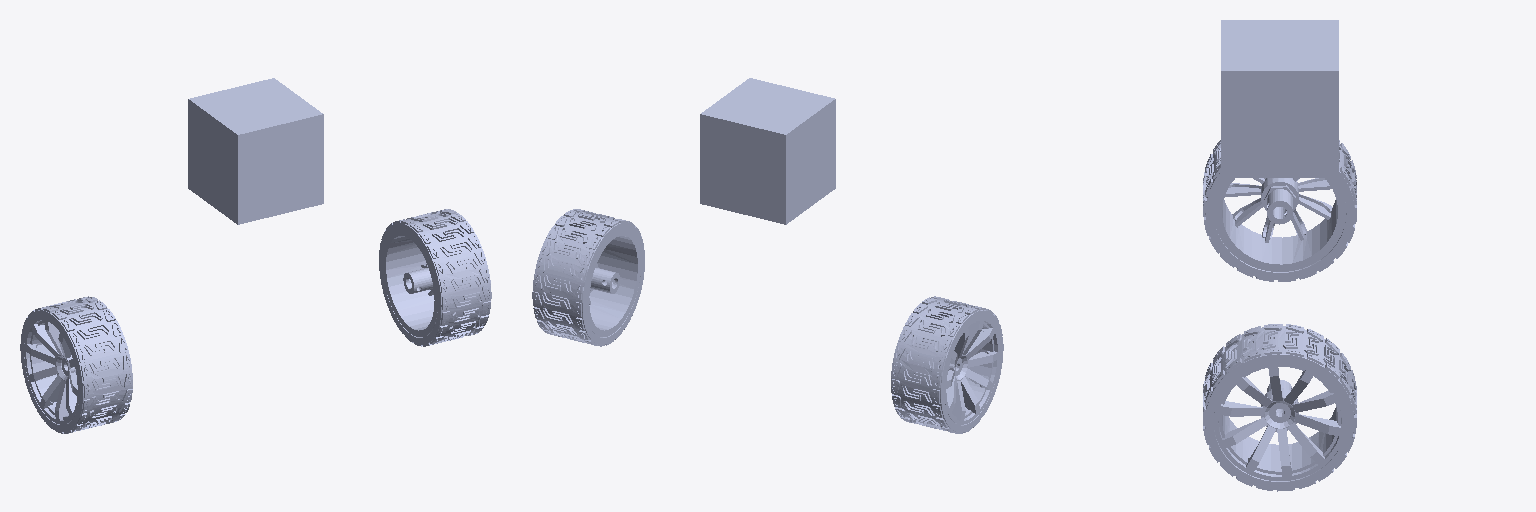
robot.urdf — betabot:
<robot
  name="betabot">

  <link
    name="base_link">
    <inertial>
      <origin
        xyz="0.0028172 0.021241 -0.00065037"
        rpy="0 0 0" />
      <mass
        value="0.73618" />
      <inertia
        ixx="0.004406"
        ixy="2.9581E-05"
        ixz="-9.8203E-06"
        iyy="0.0073252"
        iyz="-1.6737E-05"
        izz="0.003796" />
    </inertial>
    <visual>
      <origin
        xyz="0 0 0"
        rpy="0 0 0" />
      <geometry>
        <mesh
          filename="package://betabot/meshes/base_link.STL" />
      </geometry>
      <material
        name="">
        <color
          rgba="0.79216 0.81961 0.92941 1" />
      </material>
    </visual>
    <collision>
      <origin
        xyz="0 0 0"
        rpy="0 0 0" />
      <geometry>
        <mesh
          filename="package://betabot/meshes/base_link.STL" />
      </geometry>
    </collision>
  </link>
  <link
    name="Right_wheel_Link">
    <inertial>
      <origin
        xyz="5.80255419010563E-05 -0.000851425187204456 0.0156832260554452"
        rpy="0 0 0" />
      <mass
        value="0.0419257425699615" />
      <inertia
        ixx="1.84581569673829E-05"
        ixy="-7.45289443414032E-10"
        ixz="8.21098290608974E-10"
        iyy="1.84732700136559E-05"
        iyz="-1.33510460154613E-08"
        izz="3.09388986788115E-05" />
    </inertial>
    <visual>
      <origin
        xyz="0 0 0"
        rpy="0 0 0" />
      <geometry>
        <mesh
          filename="package://betabot/meshes/Right_wheel_Link.STL" />
      </geometry>
      <material
        name="">
        <color
          rgba="0.792156862745098 0.819607843137255 0.933333333333333 1" />
      </material>
    </visual>
    <collision>
      <origin
        xyz="0 0 0"
        rpy="0 0 0" />
      <geometry>
        <mesh
          filename="package://betabot/meshes/Right_wheel_Link.STL" />
      </geometry>
    </collision>
  </link>
  <joint
    name="Right_wheel_Joint"
    type="continuous">
    <origin
      xyz="-0.089032 0 -0.018"
      rpy="1.5708 0.1854 -1.5708" />
    <parent
      link="base_link" />
    <child
      link="Right_wheel_Link" />
    <axis
      xyz="0 0 1" />
  </joint>
  <link
    name="Left_wheel_Link">
    <inertial>
      <origin
        xyz="5.80255418201597E-05 -0.000851425187481221 0.0156832260562796"
        rpy="0 0 0" />
      <mass
        value="0.0419257425723193" />
      <inertia
        ixx="1.84581569678085E-05"
        ixy="-7.45289632456328E-10"
        ixz="8.21098334412829E-10"
        iyy="1.84732700143556E-05"
        iyz="-1.33510459088055E-08"
        izz="3.09388986790701E-05" />
    </inertial>
    <visual>
      <origin
        xyz="0 0 0"
        rpy="0 0 0" />
      <geometry>
        <mesh
          filename="package://betabot/meshes/Left_wheel_Link.STL" />
      </geometry>
      <material
        name="">
        <color
          rgba="0.792156862745098 0.819607843137255 0.933333333333333 1" />
      </material>
    </visual>
    <collision>
      <origin
        xyz="0 0 0"
        rpy="0 0 0" />
      <geometry>
        <mesh
          filename="package://betabot/meshes/Left_wheel_Link.STL" />
      </geometry>
    </collision>
  </link>
  <joint
    name="Left_wheel_Joint"
    type="continuous">
    <origin
      xyz="0.089032 0 -0.018"
      rpy="1.5708 0.29875 1.5708" />
    <parent
      link="base_link" />
    <child
      link="Left_wheel_Link" />
    <axis
      xyz="0 0 1" />
  </joint>
  <link
    name="hokuyo_Link">
    <inertial>
      <origin
        xyz="-0.00683730334232981 0.0042243811459572 0.0318215649057513"
        rpy="0 0 0" />
      <mass
        value="0.658662700171593" />
      <inertia
        ixx="0.000417773509609781"
        ixy="9.16473672342607E-07"
        ixz="-3.46682253232144E-07"
        iyy="0.00313393163185893"
        iyz="-3.61397597814002E-06"
        izz="0.0031119551403051" />
    </inertial>
    <visual>
      <origin
        xyz="0 0 0.01"
        rpy="0 0 0" />
      <geometry>
        <box size="0.05 0.05 0.05"/>
      </geometry>
      <material
        name="">
        <color
          rgba="0.792156862745098 0.819607843137255 0.933333333333333 1" />
      </material>
    </visual>
    <collision>
      <origin
        xyz="0 0 0.01"
        rpy="0 0 0" />
      <geometry>
        <box size="0.05 0.05 0.05"/>
      </geometry>
    </collision>
  </link>
  <joint
    name="hokuyo_Joint"
    type="fixed">
    <origin
      xyz="0 0 0.06625"
      rpy="-6.123E-17 0 0" />
    <parent
      link="base_link" />
    <child
      link="hokuyo_Link" />
    <axis
      xyz="0 0 0" />
  </joint>
  <gazebo>
    <plugin name="differential_drive_controller" filename="libgazebo_ros_diff_drive.so">
      <legacyMode>false</legacyMode>
      <alwaysOn>true</alwaysOn>
      <updateRate>20</updateRate>
      <leftJoint>Left_wheel_Joint</leftJoint>
      <rightJoint>Right_wheel_Joint</rightJoint>
      <wheelSeparation>0.5380</wheelSeparation>
      <wheelDiameter>0.2410</wheelDiameter>
      <torque>20</torque>
      <commandTopic>cmd_vel</commandTopic>
      <odometryTopic>odom</odometryTopic>
      <odometryFrame>odom</odometryFrame>
      <robotBaseFrame>base_link</robotBaseFrame>
    </plugin>
  </gazebo>
  <gazebo>
    <plugin name="imu_plugin" filename="libgazebo_ros_imu.so">
      <alwaysOn>true</alwaysOn>
      <bodyName>base_link</bodyName>
      <topicName>imu</topicName>
      <serviceName>imu_service</serviceName>
      <gaussianNoise>0.0</gaussianNoise>
      <updateRate>20.0</updateRate>
    </plugin>
  </gazebo>
  <gazebo reference="hokuyo_Link">
    <sensor type="camera" name="camera">
      <update_rate>30.0</update_rate>
      <camera name="head">
        <horizontal_fov>1.3962634</horizontal_fov>
        <image>
          <width>800</width>
          <height>800</height>
          <format>R8G8B8</format>
        </image>
        <clip>
          <near>0.02</near>
          <far>300</far>
        </clip>
        <noise>
          <type>gaussian</type>
          <mean>0.0</mean>
          <stddev>0.007</stddev>
        </noise>
      </camera>
      <plugin name="camera_controller" filename="libgazebo_ros_camera.so">
        <alwaysOn>true</alwaysOn>
        <updateRate>0.0</updateRate>
        <cameraName>/camera</cameraName>
        <imageTopicName>image_raw</imageTopicName>
        <cameraInfoTopicName>camera_info</cameraInfoTopicName>
        <frameName>hokuyo_Link</frameName>
        <hackBaseline>0.07</hackBaseline>
        <distortionK1>0.0</distortionK1>
        <distortionK2>0.0</distortionK2>
        <distortionK3>0.0</distortionK3>
        <distortionT1>0.0</distortionT1>
        <distortionT2>0.0</distortionT2>
      </plugin>
    </sensor>
  </gazebo>
 <!-- hokuyo -->
  <gazebo reference="hokuyo_Link">
    <!--sensor type="gpu_ray" name="head_hokuyo_sensor">
      <pose>0 0 0 0 0 0</pose>
      <visualize>True</visualize>
      <update_rate>40</update_rate>
      <ray>
        <scan>
          <horizontal>
            <samples>720</samples>
            <resolution>1</resolution>
            <min_angle>-1.570796</min_angle>
            <max_angle>1.570796</max_angle>
          </horizontal>
        </scan>
        <range>
          <min>0.10</min>
          <max>30.0</max>
          <resolution>0.01</resolution>
        </range>
        <noise>
          <type>gaussian</type>
          <mean>0.0</mean>
          <stddev>0.01</stddev>
        </noise>
      </ray>
      <plugin name="gazebo_ros_head_hokuyo_controller" filename="libgazebo_ros_gpu_laser.so">
        <topicName>/betabot/laser/scan</topicName>
        <frameName>hokuyo_Link</frameName>
      </plugin>
    </sensor-->
    <sensor type="ray" name="laser">
      <pose>0 0 0 0 0 0</pose>
      <visualize>True</visualize>
      <update_rate>40</update_rate>
      <ray>
        <scan>
          <horizontal>
            <samples>720</samples>
            <resolution>1</resolution>
            <min_angle>-1.570796</min_angle>
            <max_angle>1.570796</max_angle>
          </horizontal>
        </scan>
        <range>
          <min>0.10</min>
          <max>30.0</max>
          <resolution>0.01</resolution>
        </range>
        <noise>
          <type>gaussian</type>
          <mean>0.0</mean>
          <stddev>0.01</stddev>
        </noise>
      </ray>
      <plugin name="gazebo_ros_head_hokuyo_controller" filename="libgazebo_ros_laser.so">
        <topicName>/scan</topicName>
        <frameName>hokuyo_Link</frameName>
      </plugin>
    </sensor>
  </gazebo>
</robot>

--- Render facts (derived) ---
The picture shows the robot from 3 angles, left to right: view 1: azimuth 30°, elevation 25°; view 2: azimuth 150°, elevation 25°; view 3: azimuth 270°, elevation 25°; orthographic projection.
Robot: betabot — 4 links, 3 joints (2 continuous, 1 fixed); root link base_link; default pose: all joints at 0.
Visible links, largest first — view 1: hokuyo_Link, Left_wheel_Link, Right_wheel_Link; view 2: hokuyo_Link, Right_wheel_Link, Left_wheel_Link; view 3: Left_wheel_Link, hokuyo_Link, Right_wheel_Link.
Boxes of the visible links, <box> form: hokuyo_Link: <box>188,78,323,224</box>; Left_wheel_Link: <box>379,209,491,346</box>; Right_wheel_Link: <box>20,296,132,433</box>; hokuyo_Link: <box>700,78,835,224</box>; Right_wheel_Link: <box>891,296,1003,433</box>; Left_wheel_Link: <box>532,209,644,346</box>; Left_wheel_Link: <box>1203,324,1356,491</box>; hokuyo_Link: <box>1221,20,1338,177</box>; Right_wheel_Link: <box>1203,140,1356,281</box>.
Size in the robot's own frame: 0.2377 by 0.0651 by 0.1522 metres.
2 mesh visuals loaded from 3 distinct referenced files (2 binary STL); not drawn: 1 (reference not matched to a file when rendering).
